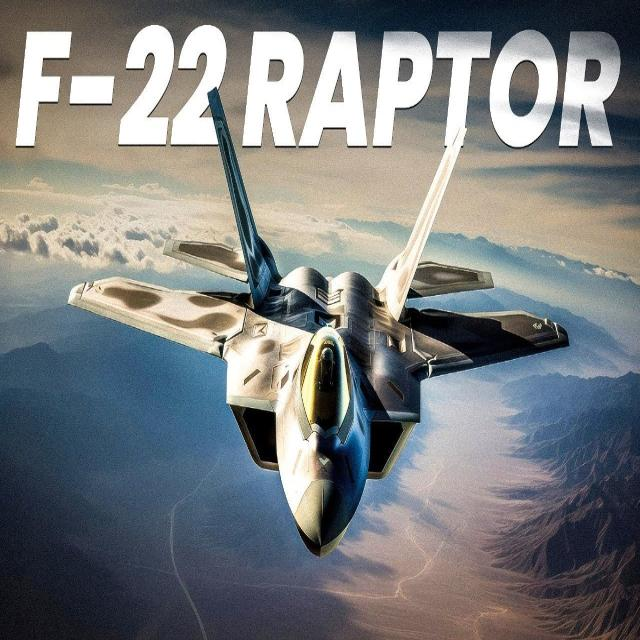F22: (66, 51, 597, 580)
